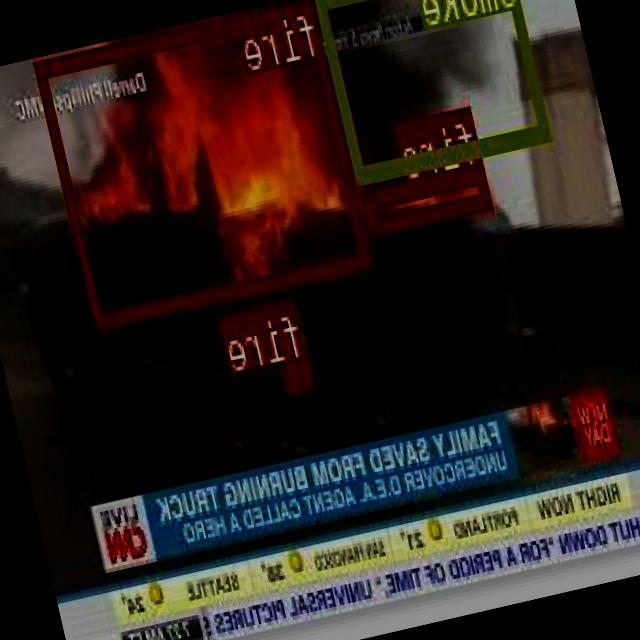fire: (35, 0, 374, 328), (362, 162, 492, 230), (283, 356, 317, 392)
smoke: (317, 0, 552, 181)
